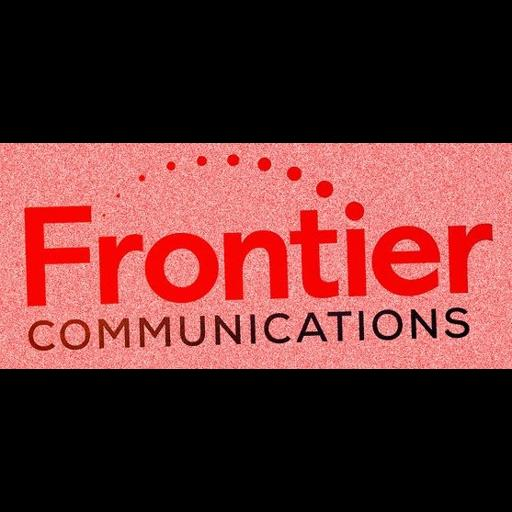Frontier Communications: (0, 143, 512, 369)
